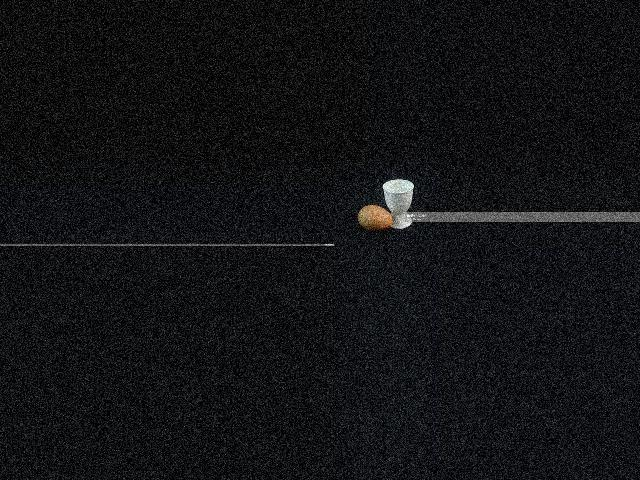egg: (358, 205, 393, 230)
